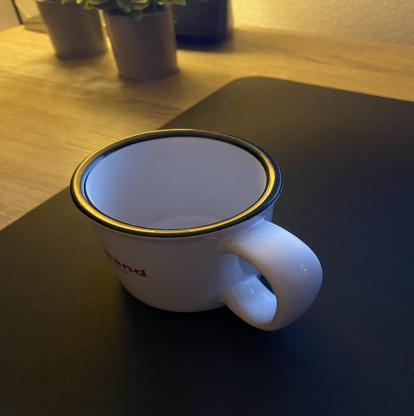Cup: (68, 128, 324, 331)
